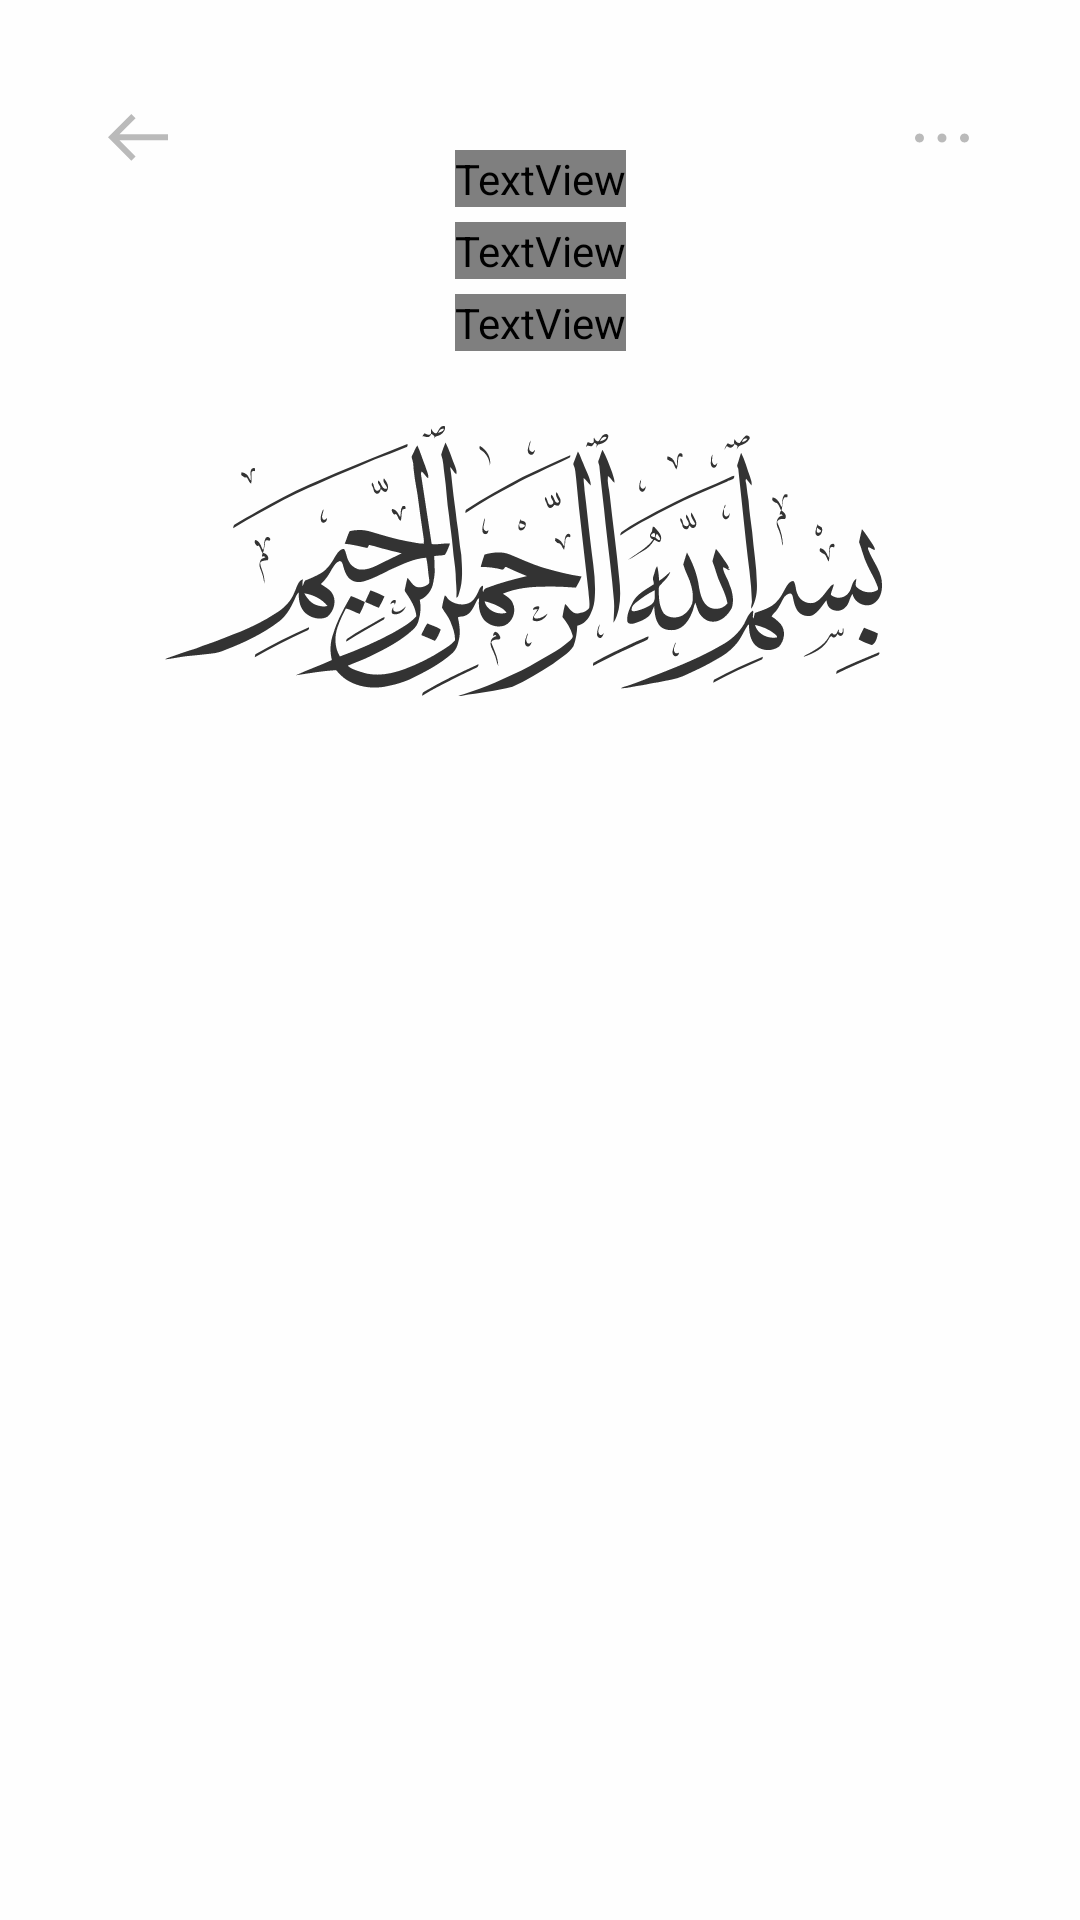

Where icons sit on this 1080×1920 app screen, as (x1, y1, x2, y2):
back: (108, 114, 168, 161)
more 3dots: (915, 133, 969, 143)
